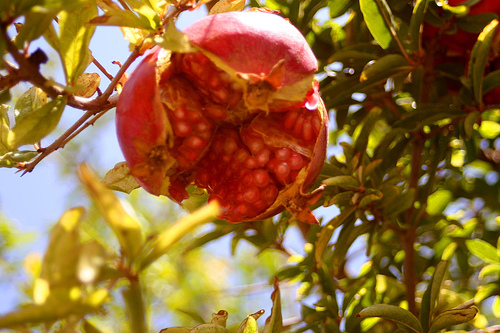pomogranate: (114, 11, 330, 226)
